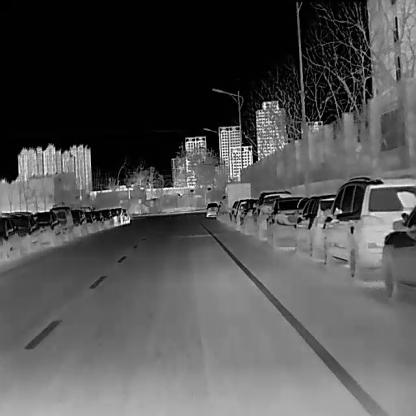car: (321, 174, 415, 278), (292, 192, 336, 260), (265, 195, 308, 249), (250, 189, 292, 242), (12, 210, 40, 252), (32, 210, 62, 247), (0, 213, 21, 260), (49, 205, 74, 242), (238, 197, 258, 235), (70, 208, 88, 237), (85, 212, 98, 233), (100, 207, 113, 228), (110, 206, 121, 225), (205, 202, 218, 216), (121, 208, 130, 223)
truck: (221, 182, 250, 224)
